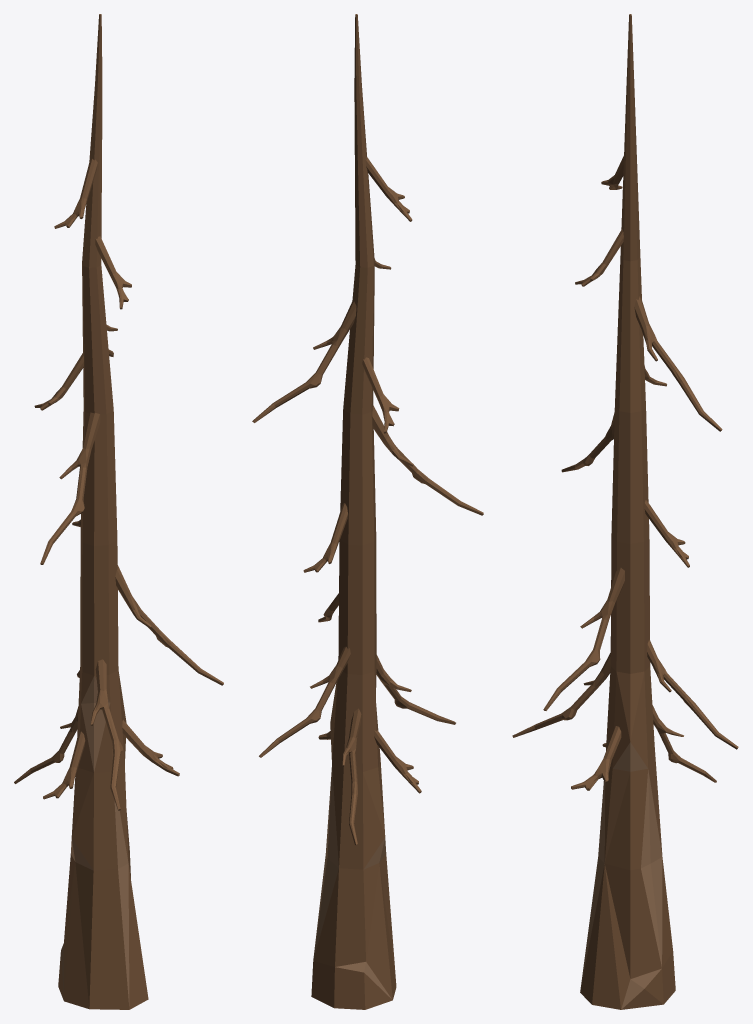
File: mesh_tree_pine_02_dead.fbx
The picture shows the model from 3 angles, left to right: view 1: azimuth 30°, elevation 25°; view 2: azimuth 150°, elevation 25°; view 3: azimuth 270°, elevation 25°; orthographic projection.
Parts seen in each view (by area): view 1: mesh_tree_pine_02_dead_LOD0; view 2: mesh_tree_pine_02_dead_LOD0; view 3: mesh_tree_pine_02_dead_LOD0.
Part boxes in pixels (box(x1,y1,x2,y2)): mesh_tree_pine_02_dead_LOD0: box(14, 14, 223, 1009); mesh_tree_pine_02_dead_LOD0: box(252, 14, 483, 1009); mesh_tree_pine_02_dead_LOD0: box(512, 14, 738, 1009).
Size of what is drawn, in the model's own units: 2.55 by 13.63 by 2.86.
